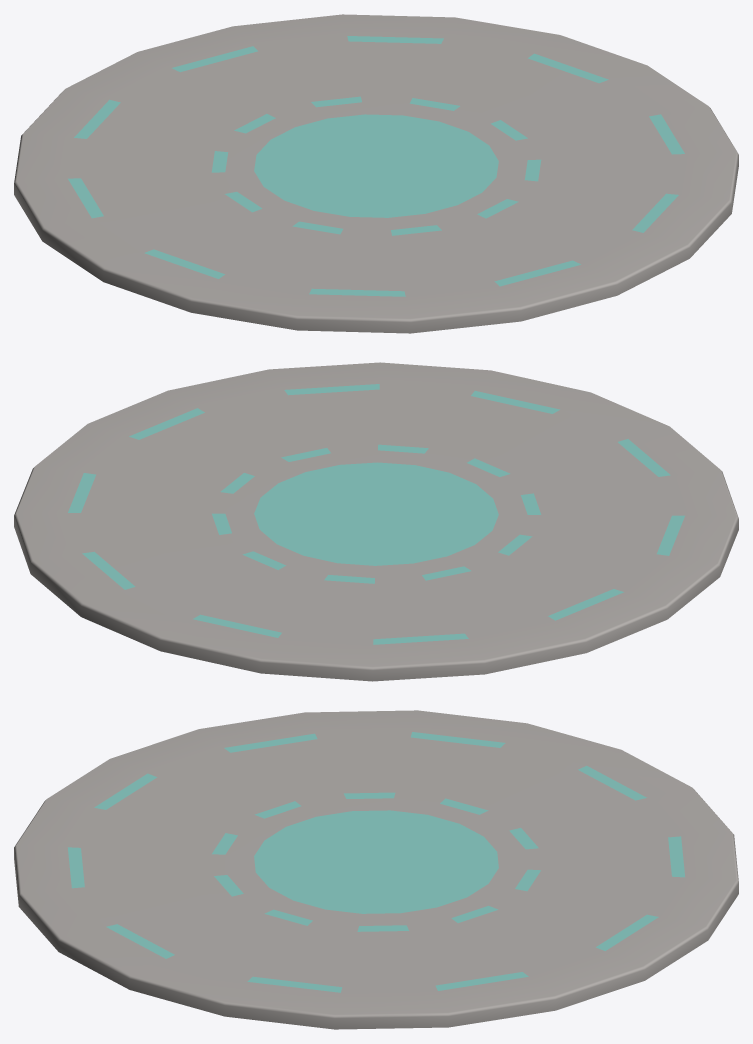
Rendered from Landing_Station.fbx.
3 renders of one model, top to bottom at view 1: azimuth 30°, elevation 25°; view 2: azimuth 150°, elevation 25°; view 3: azimuth 270°, elevation 25°, orthographic.
Visible parts, largest first — view 1: Landing_Station; view 2: Landing_Station; view 3: Landing_Station.
Part boxes in pixels (x1,y1,x2,y2): Landing_Station: (14,14,738,333); Landing_Station: (14,362,738,681); Landing_Station: (14,710,738,1029).
Bounding box in the file's own units: 979 × 979 × 21.15.
